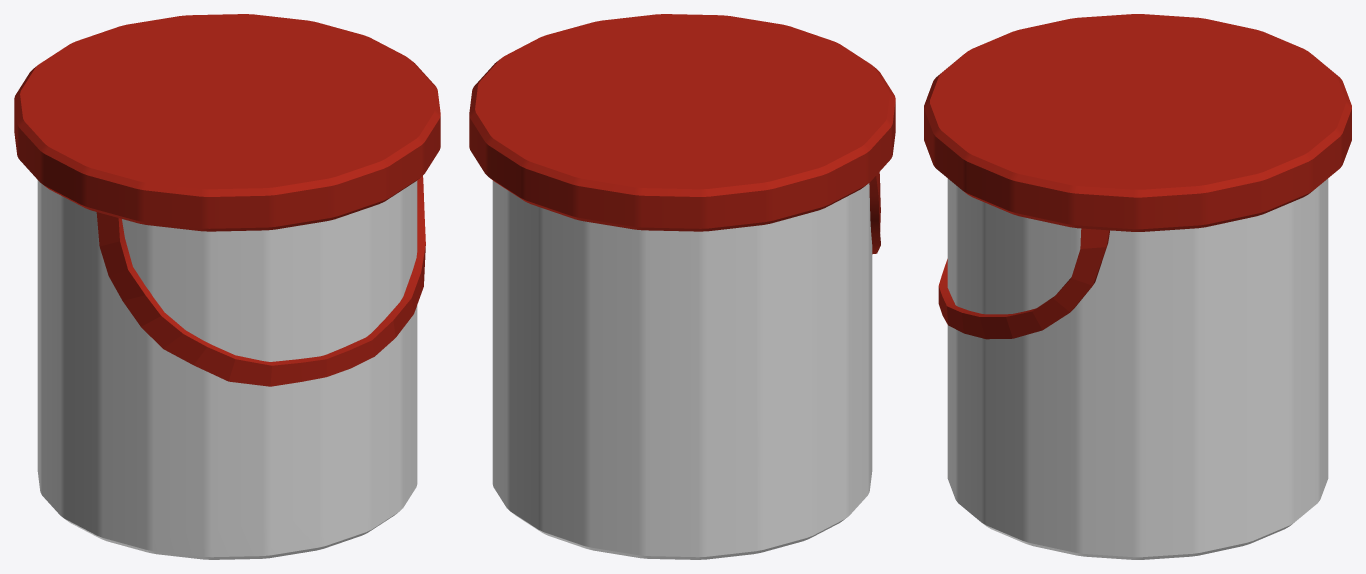
The model's file is Ürün16.fbx.
3 views of the same model, side by side, from view 1: azimuth 30°, elevation 25°; view 2: azimuth 150°, elevation 25°; view 3: azimuth 270°, elevation 25° (orthographic).
Parts seen in each view (by area): view 1: pCylinder9; view 2: pCylinder9; view 3: pCylinder9.
Part boxes in pixels (left/top/right/bottom): pCylinder9: left=14, top=14, right=440, bottom=559; pCylinder9: left=469, top=14, right=895, bottom=559; pCylinder9: left=924, top=14, right=1351, bottom=559.
Size of the model in its own units: 20.06 by 19.68 by 20.06.
